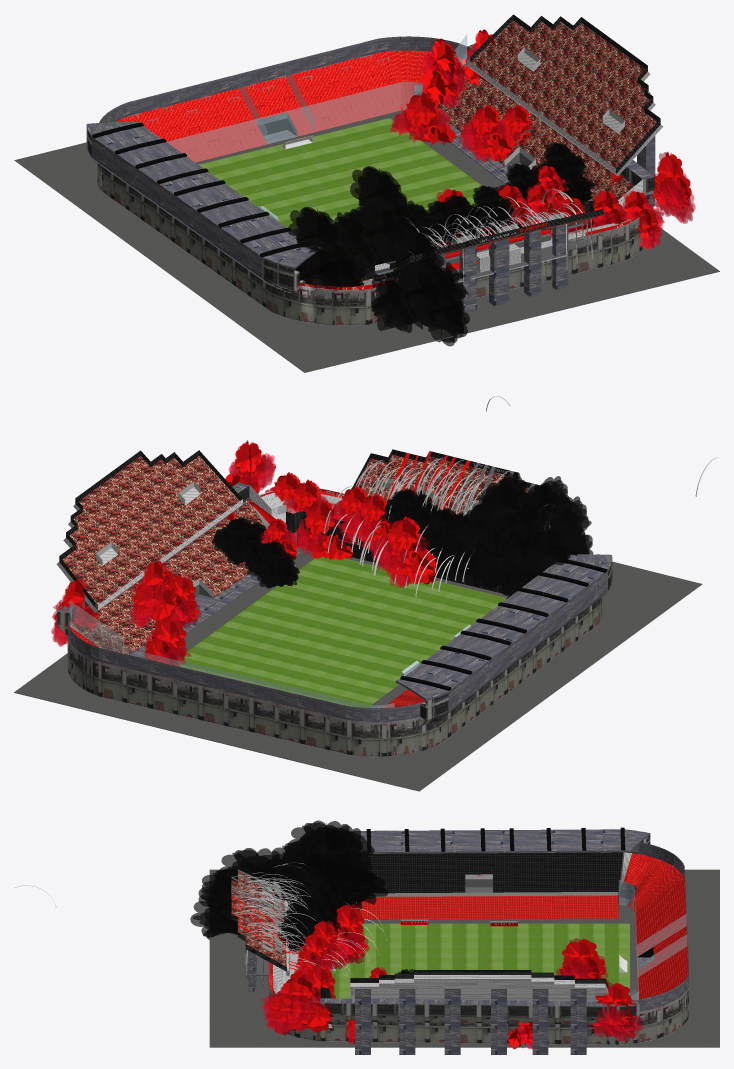
The model's file is Newells.gltf.
3 renders of one model, top to bottom at view 1: azimuth 30°, elevation 25°; view 2: azimuth 150°, elevation 25°; view 3: azimuth 270°, elevation 25°, orthographic. The views are drawn at different scales.
Visible parts, largest first — view 1: Estadio+marcelo+bielsa; view 2: Estadio+marcelo+bielsa; view 3: Estadio+marcelo+bielsa.
Boxes of the visible parts, <box> form: Estadio+marcelo+bielsa: <box>14,14,719,411</box>; Estadio+marcelo+bielsa: <box>14,440,718,791</box>; Estadio+marcelo+bielsa: <box>14,820,719,1054</box>.
Bounding box in the file's own units: 171 × 52.34 × 257.
41 materials, 25 textured.
